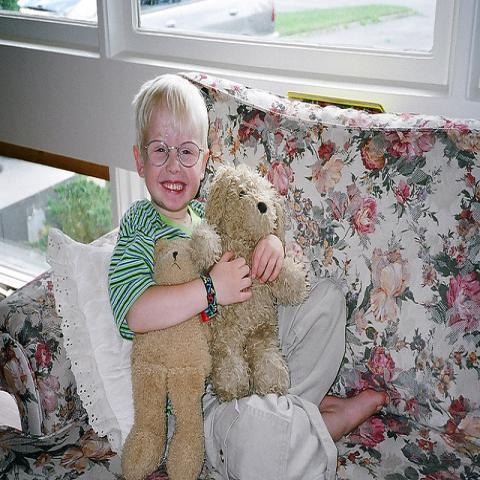car: (138, 5, 280, 43)
